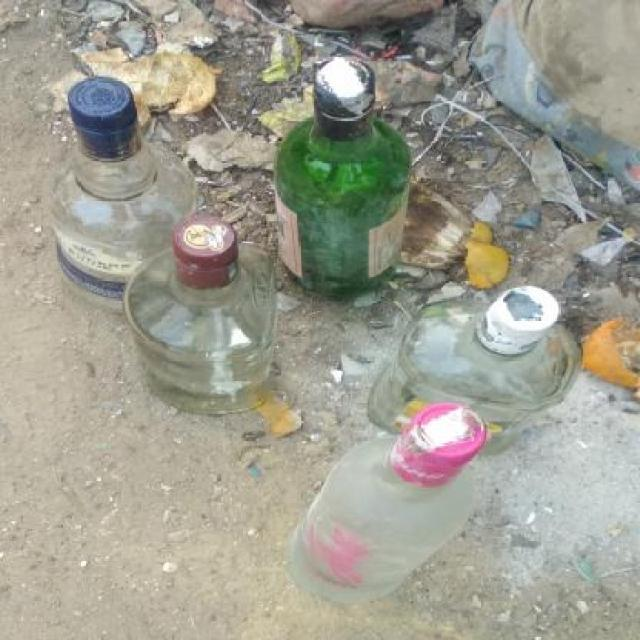garbage: (56, 48, 620, 630)
